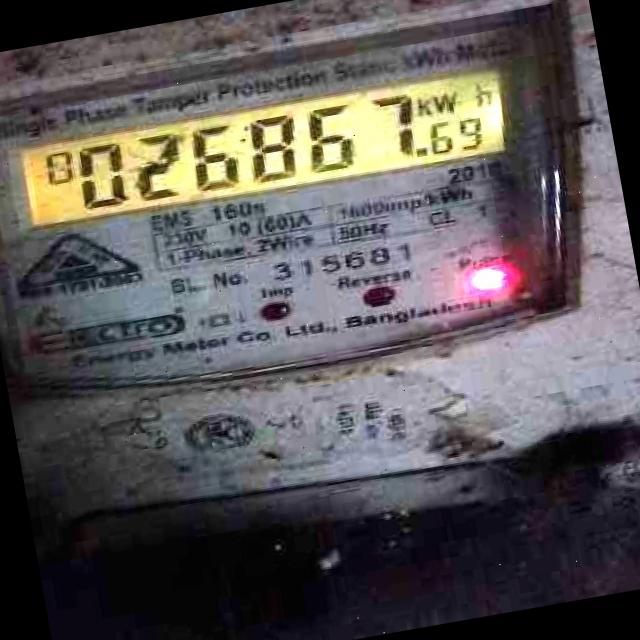LCD: (0, 56, 517, 245)
